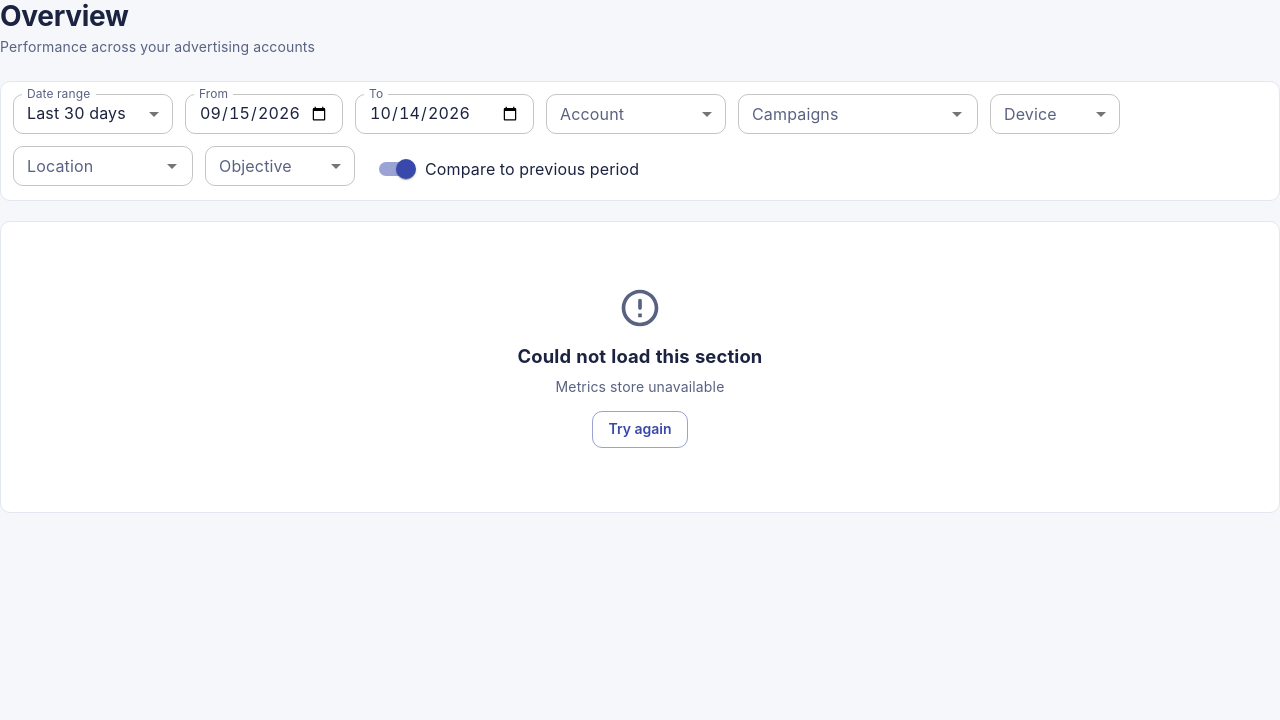
Test: DashboardPage › shows an error state with retry when the overview fails
Expected: the text "Metrics store unavailable" is shown, [556, 377, 724, 397]
Click the button "Try again".
click(640, 429)  # box [592, 411, 688, 448]
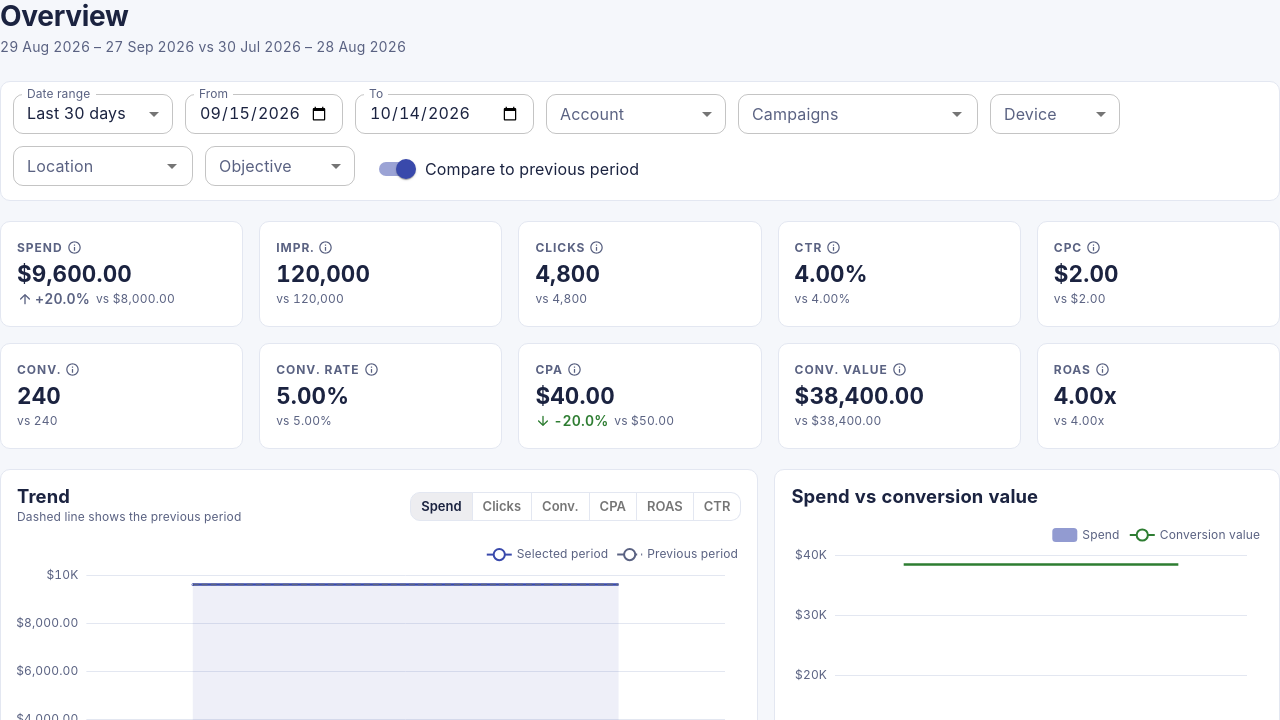
Result: the element named "Key performance indicators" is shown at [0, 221, 1279, 449]
